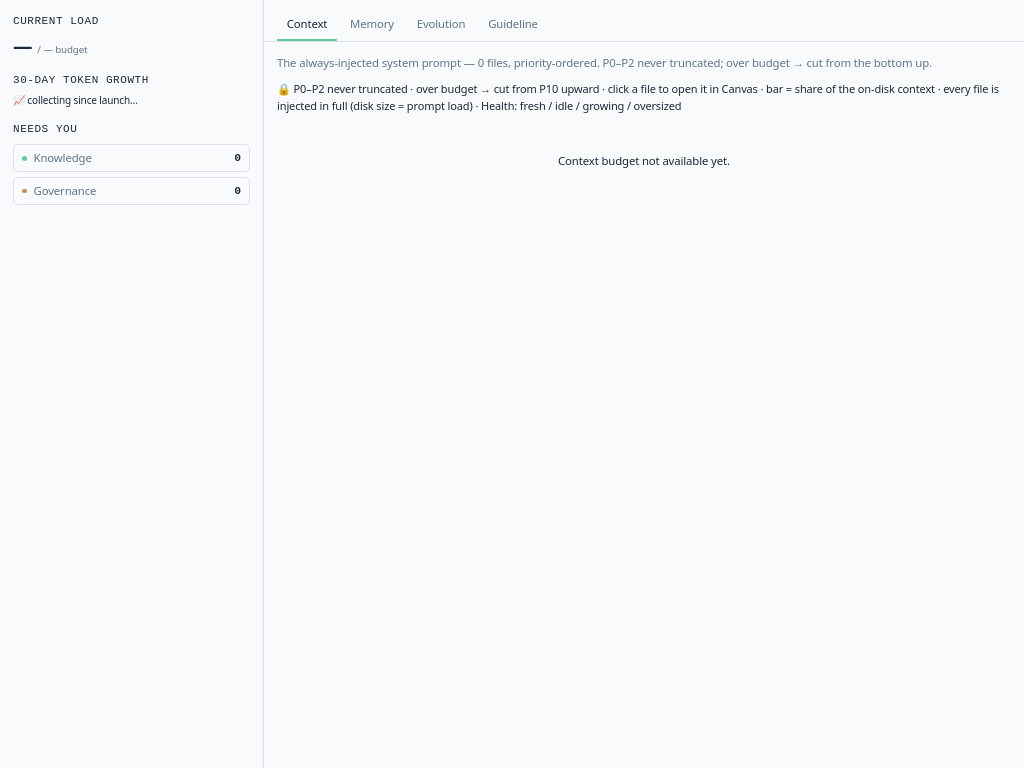
Scenario: CMBrainOverlay — Memory tab (7-type graph + drill, DoD2) › clicking a node drills the latest entries of that type
Click the button with test id "cm-tab-memory".
click(372, 25)  # box [340,10,404,41]
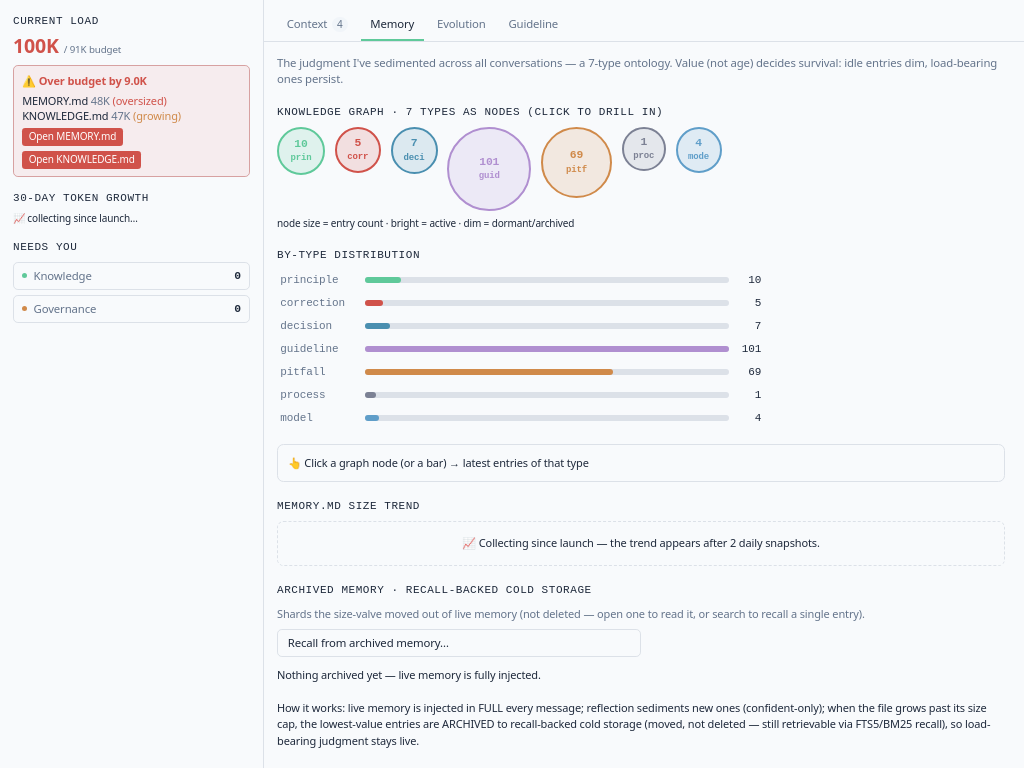
Click the button with test id "cm-graph-node-guideline".
click(489, 169)  # box [447,127,531,211]
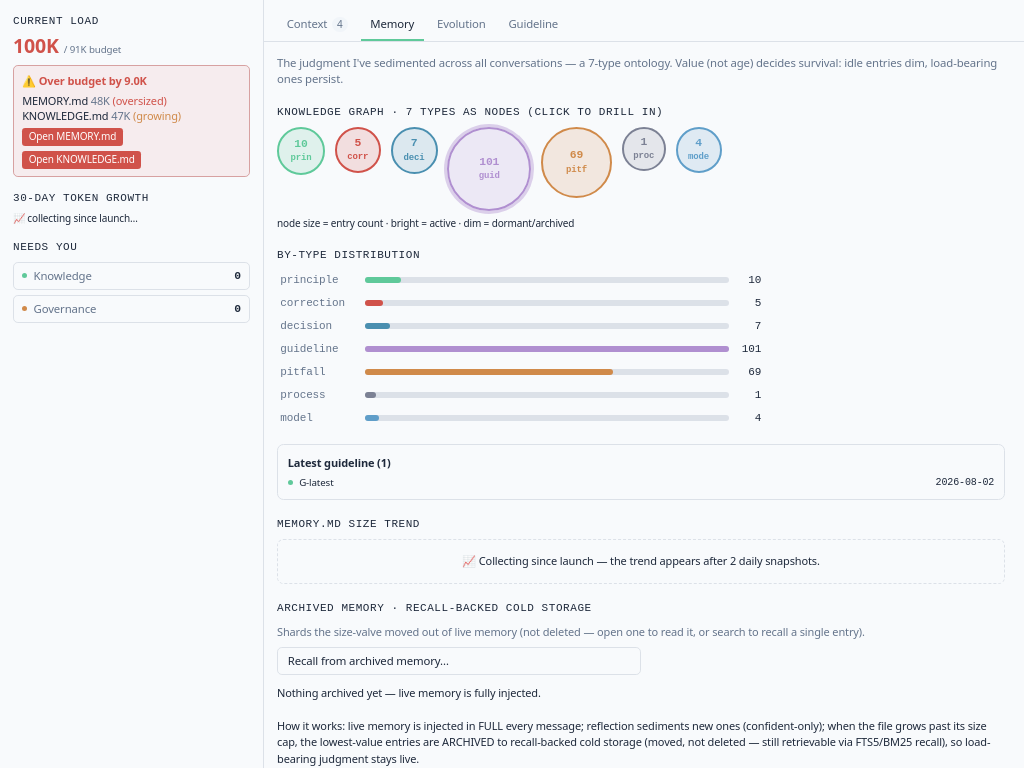
expect the element with test id "cm-drill-list" shows "G-latest": met, box [299,476,334,489]
